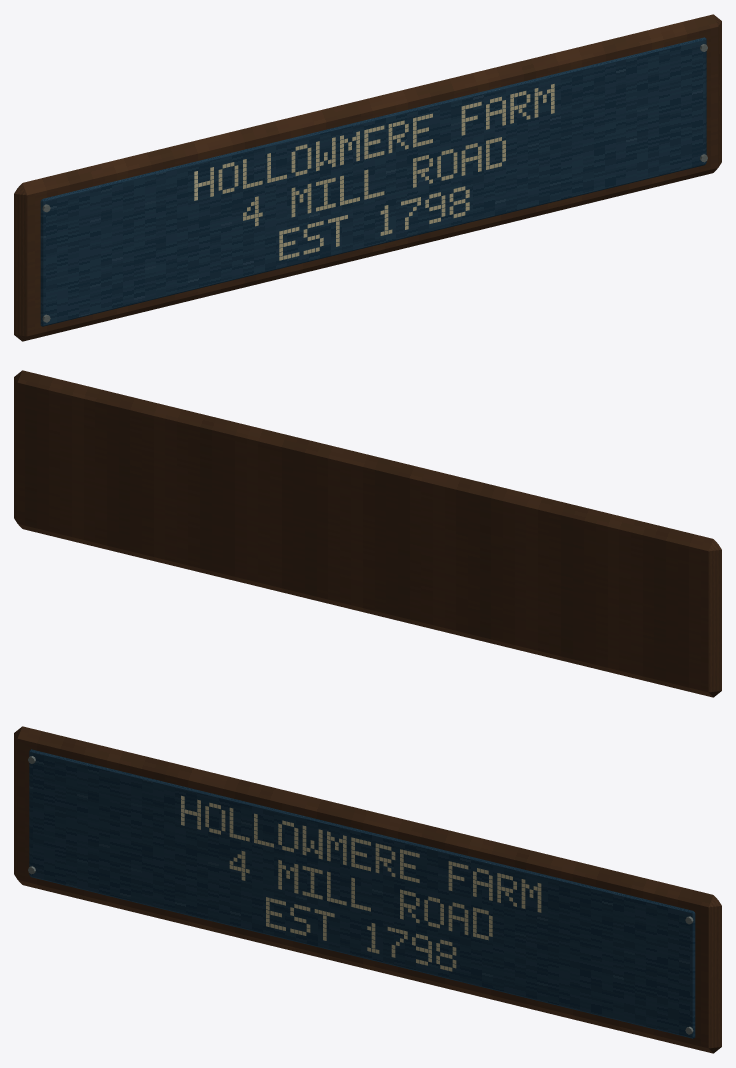
File: level_sign_farmhouse.glb
3 renders of one model, top to bottom at view 1: azimuth 30°, elevation 25°; view 2: azimuth 150°, elevation 25°; view 3: azimuth 330°, elevation 25°, orthographic.
Parts seen in each view (by area): view 1: level_sign_farmhouse; view 2: level_sign_farmhouse; view 3: level_sign_farmhouse.
Boxes of the visible parts, x1,y1,x2,y2 form: level_sign_farmhouse: (14, 14, 721, 341); level_sign_farmhouse: (14, 370, 721, 697); level_sign_farmhouse: (14, 726, 721, 1053).
Size of the model in its own units: 1.68 by 0.36 by 0.053.
Materials: 4 (4 with a texture image).
